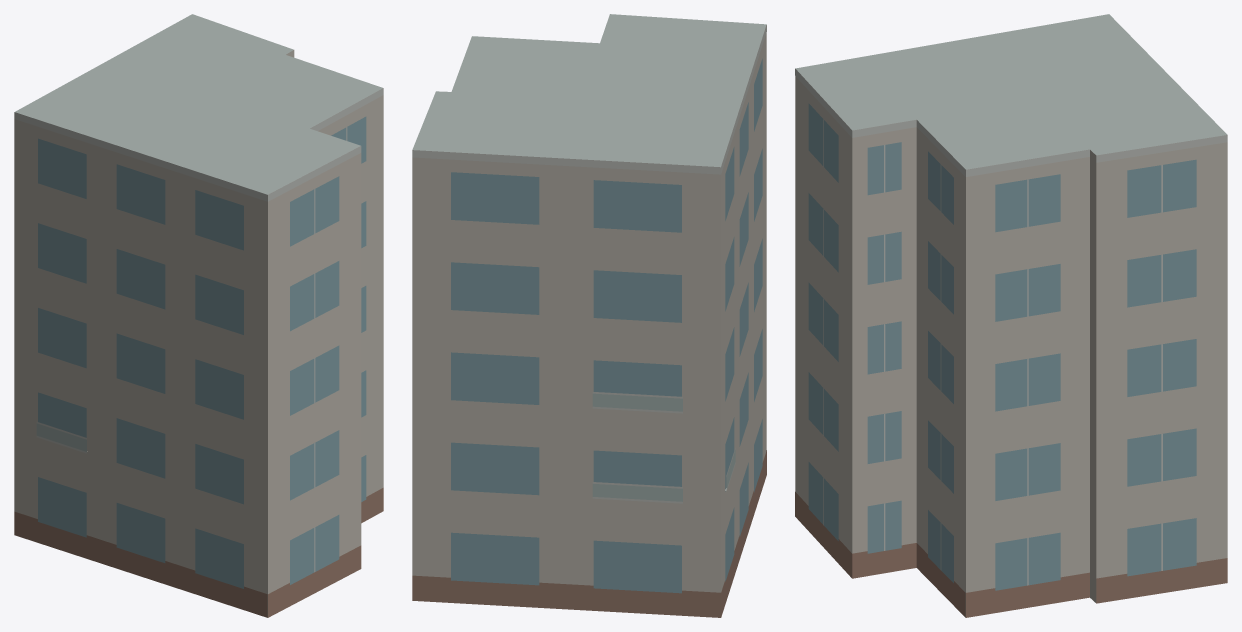
The model's file is survey-upis-32709716.glb.
3 views of the same model, side by side, from view 1: azimuth 30°, elevation 25°; view 2: azimuth 150°, elevation 25°; view 3: azimuth 270°, elevation 25° (orthographic). The views are drawn at different scales.
Parts seen in each view (by area): view 1: survey-upis-32709716.tmp; view 2: survey-upis-32709716.tmp; view 3: survey-upis-32709716.tmp.
Boxes of the visible parts, bbox=[...] form: survey-upis-32709716.tmp: bbox=[14, 14, 383, 617]; survey-upis-32709716.tmp: bbox=[412, 14, 766, 617]; survey-upis-32709716.tmp: bbox=[795, 14, 1227, 617].
Size of the model in its own units: 11.04 by 14.8 by 12.95.
